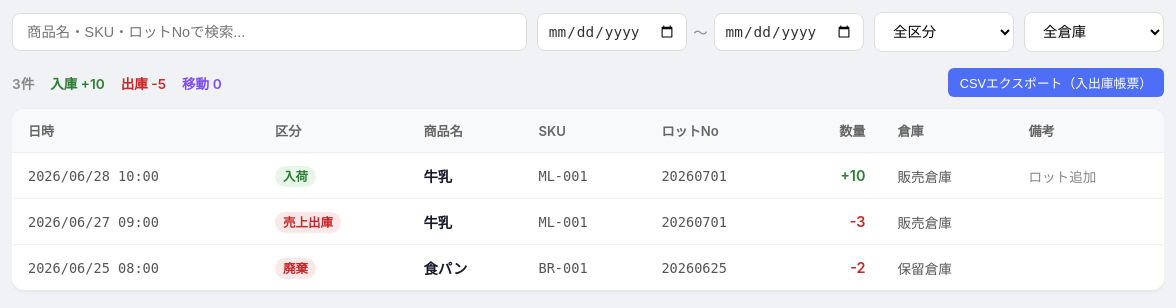
Scenario: LedgerView — 絞り込み › 区分で絞り込める
The image size is (1176, 308).
Select "廃棄" in the dropdown named "区分": (944, 32) [874,12,1014,52]
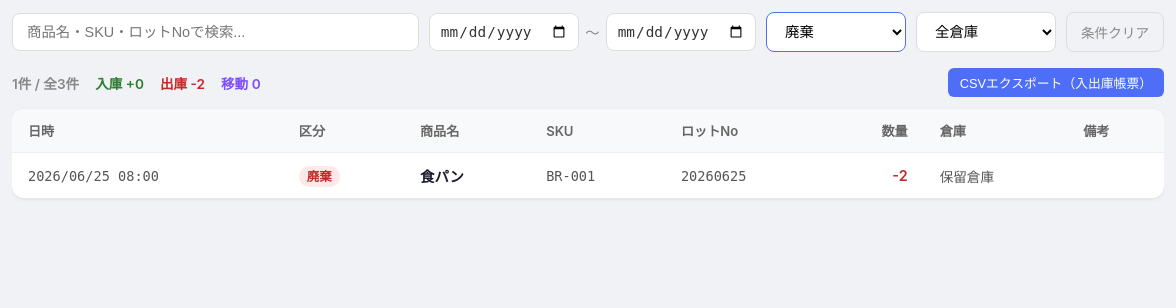
Expected: the text "1件 / 全3件" is shown, [12,72,79,92]
